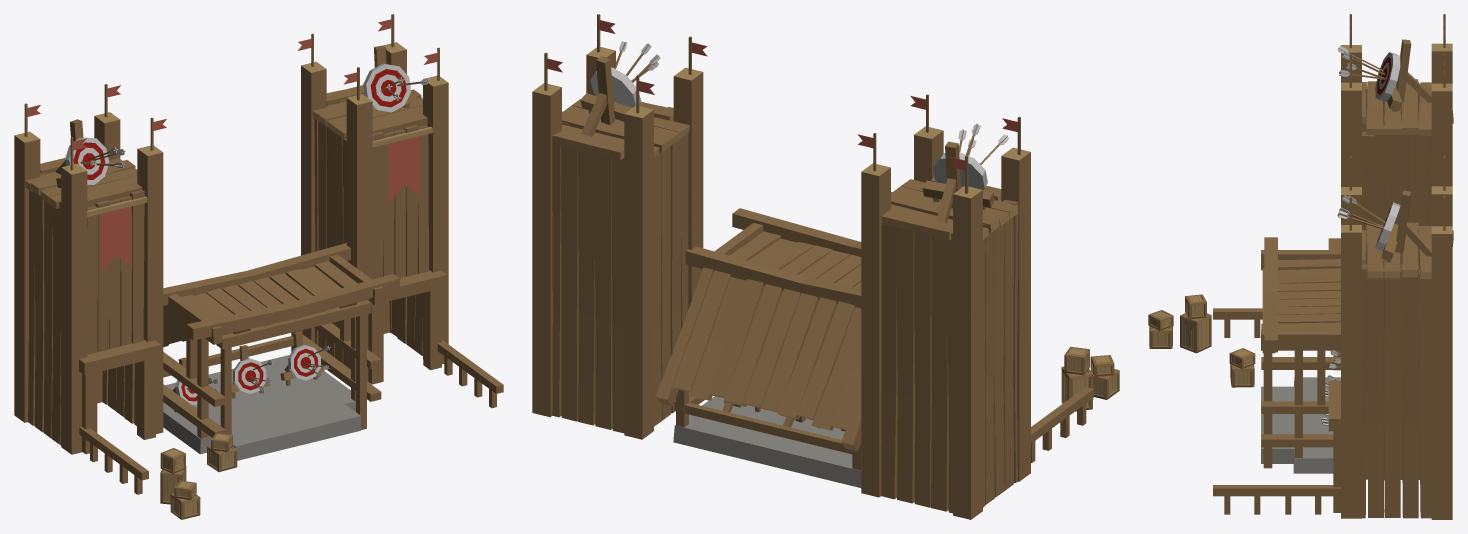
File: archery-tower.glb
The picture shows the model from 3 angles, left to right: view 1: azimuth 30°, elevation 25°; view 2: azimuth 150°, elevation 25°; view 3: azimuth 270°, elevation 25°; orthographic projection. The views are drawn at different scales.
Parts seen in each view (by area): view 1: Archery_FirstAge_Level3; view 2: Archery_FirstAge_Level3; view 3: Archery_FirstAge_Level3.
Boxes of the visible parts, x1,y1,x2,y2 form: Archery_FirstAge_Level3: (14,14,503,519); Archery_FirstAge_Level3: (532,14,1119,519); Archery_FirstAge_Level3: (1148,14,1453,519).
Bounding box in the file's own units: 1.88 × 1.5 × 1.27.
1 material, 1 textured.
